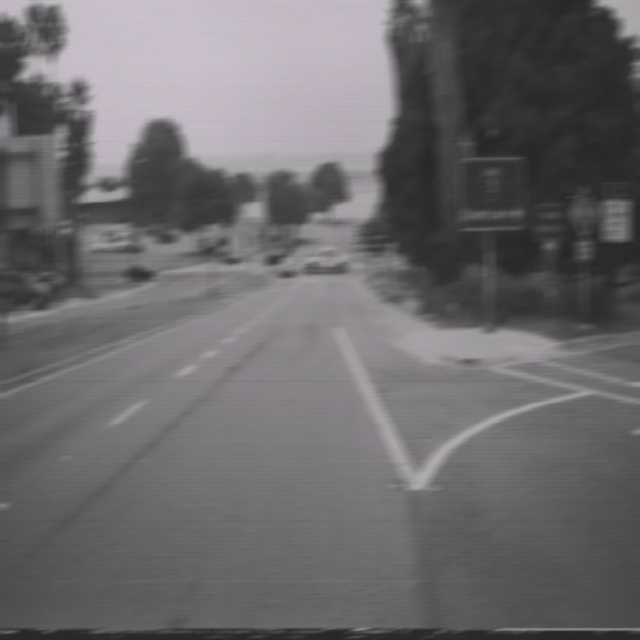signalAhead: (569, 183, 598, 237)
